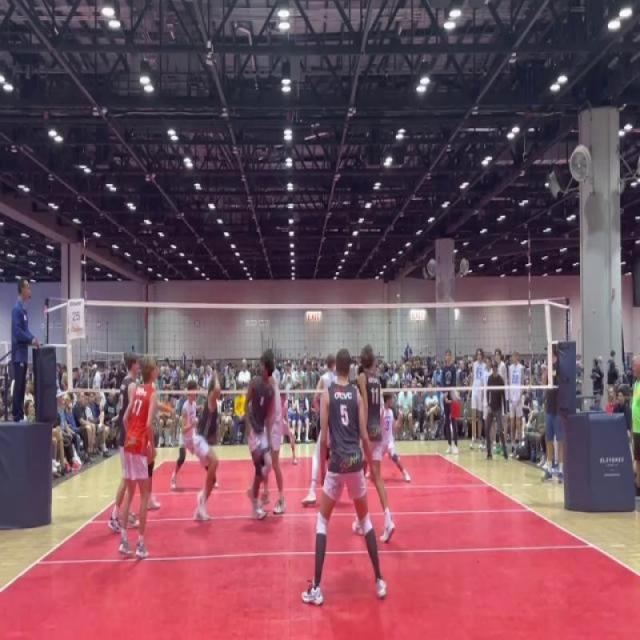volleyball: (451, 390, 462, 406)
